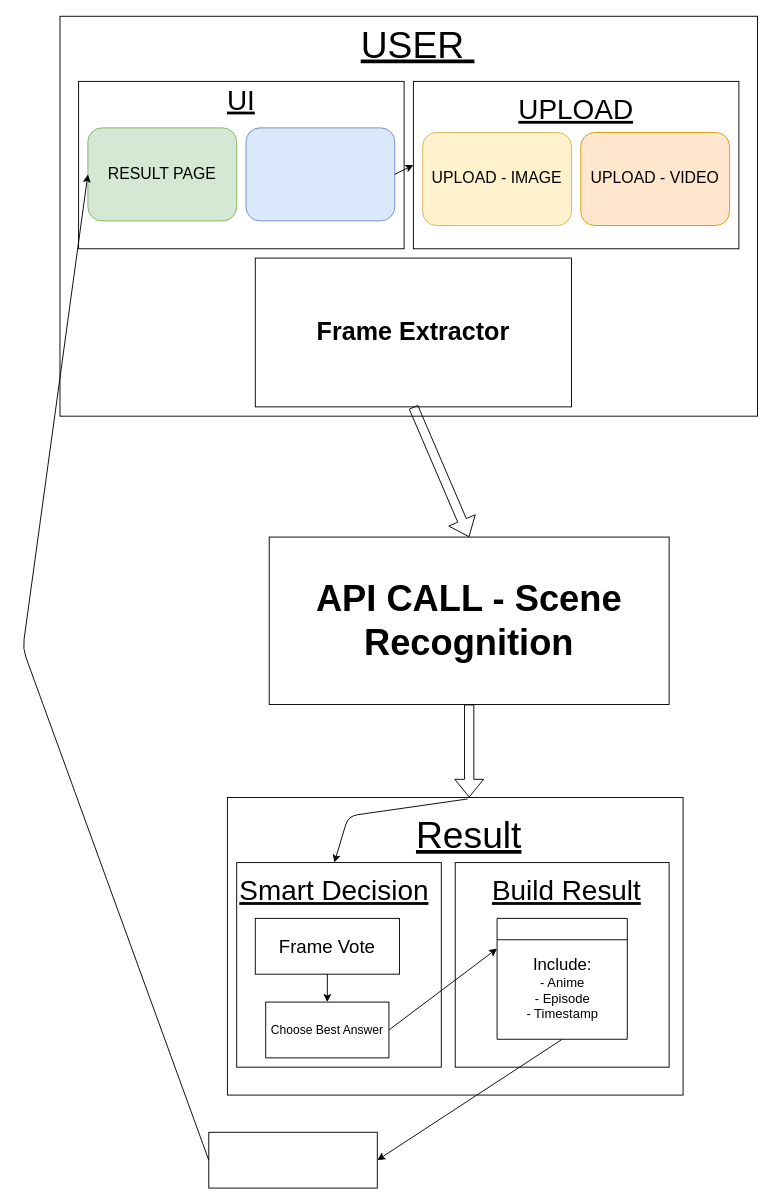
Some shapes in this 774 by 1204 pixel diagram are drawn without their labels. The box of each missing label's shape, as (x1, y1, x2, y2) in pixels:
JSON Response: (496, 917, 627, 1039)
Send Result to UI: (208, 1131, 377, 1188)
UPLOAD PAGE: (245, 127, 395, 221)
